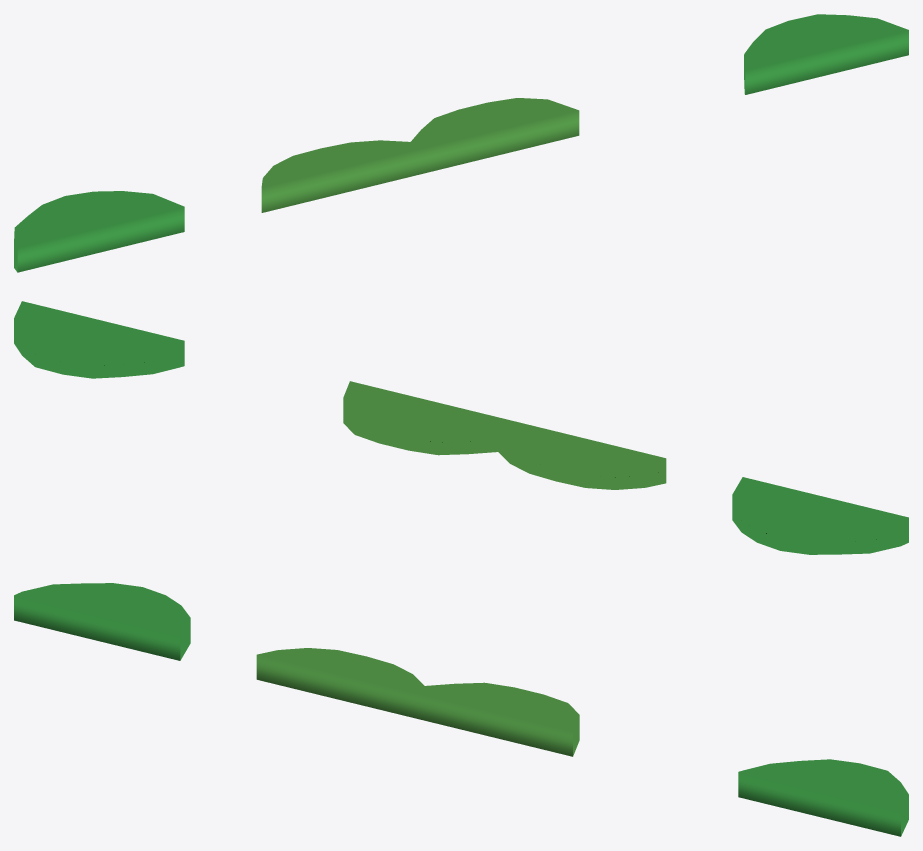
Rendered from backhillright.fbx.
3 views of the same model, one above another, from view 1: azimuth 30°, elevation 25°; view 2: azimuth 150°, elevation 25°; view 3: azimuth 330°, elevation 25° (orthographic).
Visible parts, largest first — view 1: backhillsright1; view 2: backhillsright1; view 3: backhillsright1.
Part boxes in pixels (left/top/right/bottom): backhillsright1: left=14, top=14, right=908, bottom=272; backhillsright1: left=14, top=301, right=908, bottom=554; backhillsright1: left=14, top=583, right=908, bottom=836.
Bounding box in the file's own units: 0.7389 × 0.02 × 0.0586.
